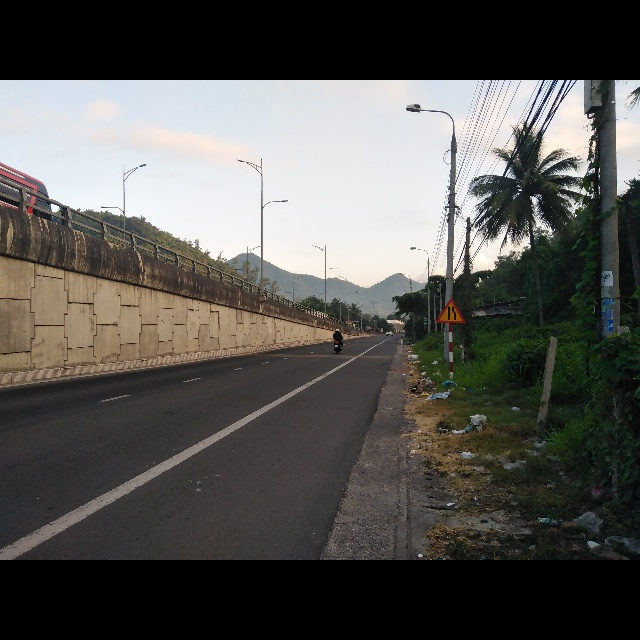Đường bị hẹp bên phải: (435, 297, 465, 323)
